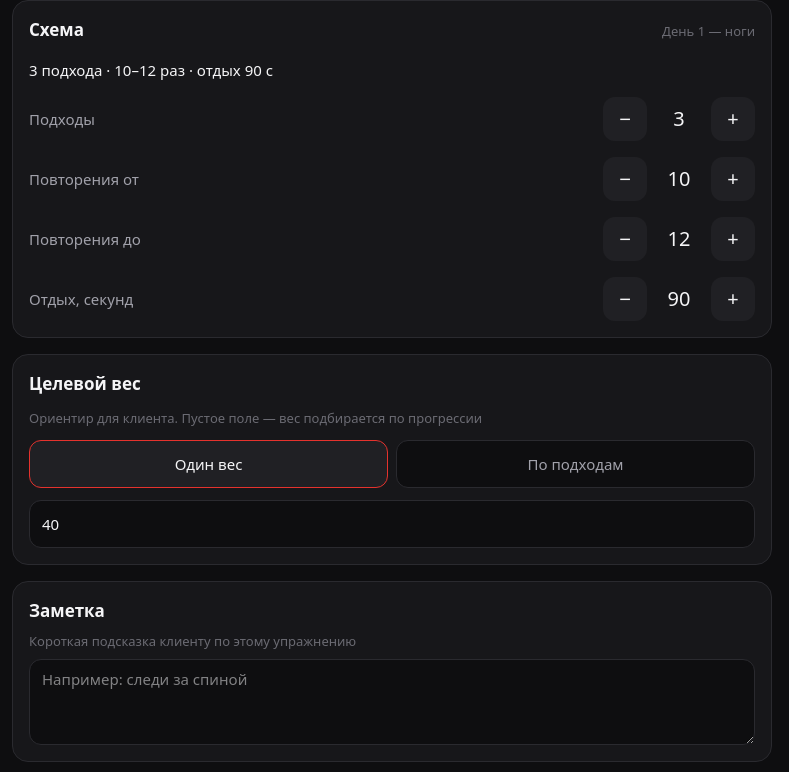
«По подходам»: число полей следует за числом подходов
Click the button "По подходам".
click(576, 464)  # box x1=396 y1=440 x2=755 y2=488
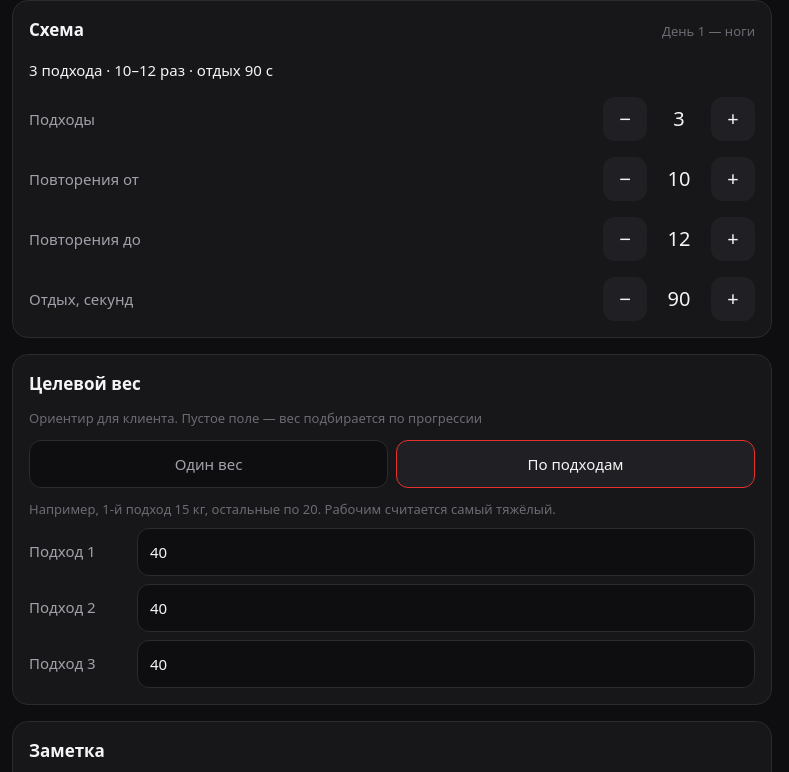
Click the button named "Подходы больше".
click(733, 119)  # box x1=711 y1=97 x2=755 y2=141
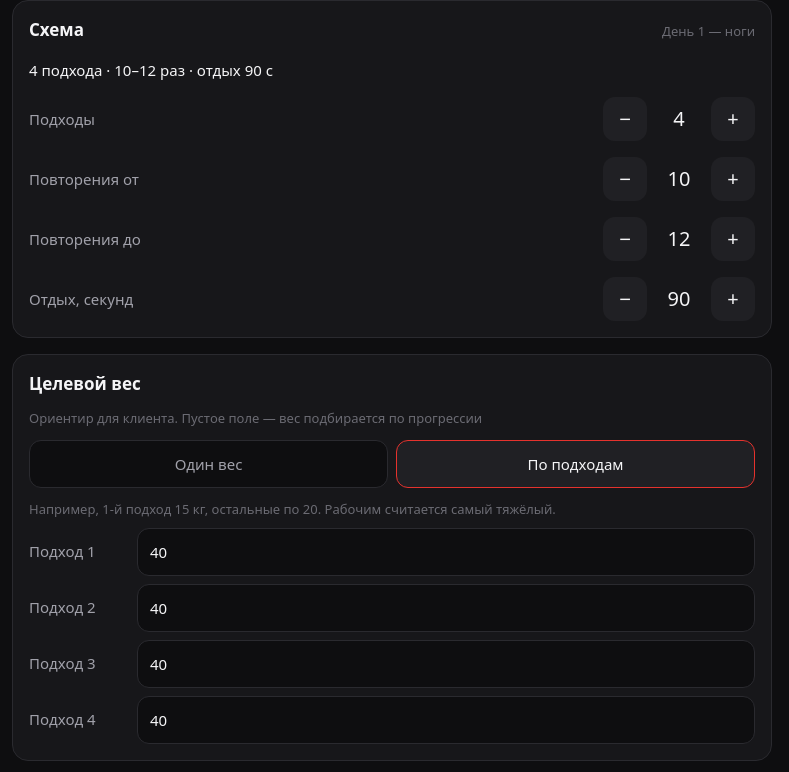
Check: the field named "Вес подхода 4" is shown, box x1=137 y1=696 x2=755 y2=744
